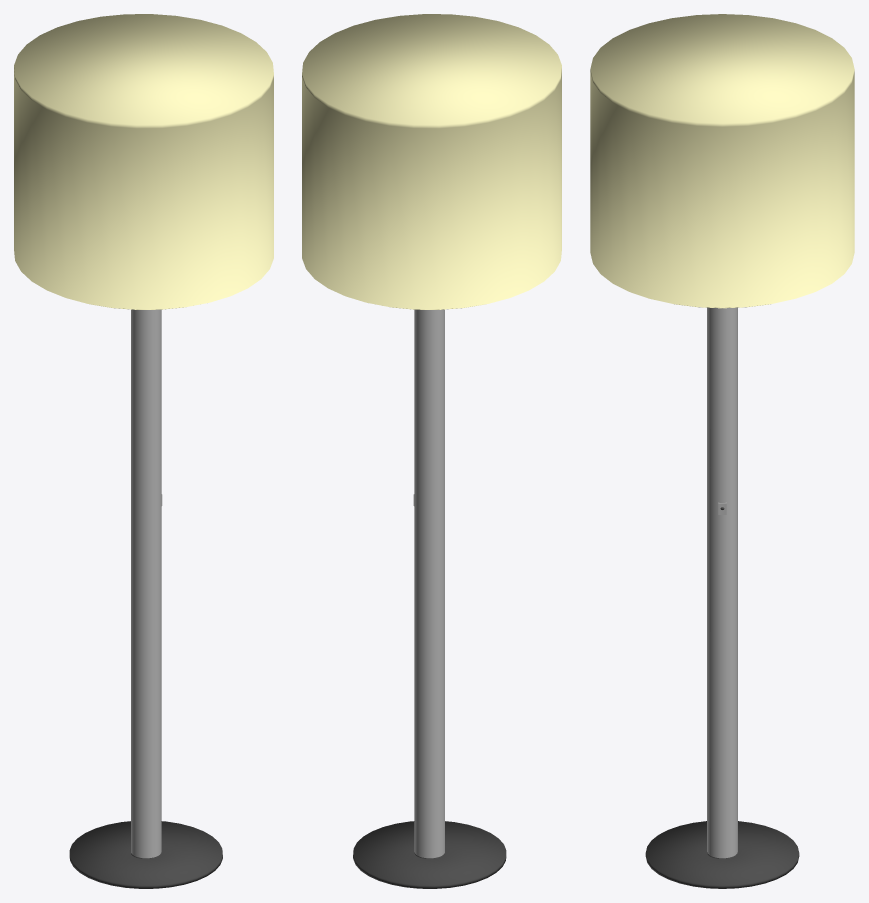
Rendered from Lamp.fbx.
The picture shows the model from 3 angles, left to right: view 1: azimuth 30°, elevation 25°; view 2: azimuth 150°, elevation 25°; view 3: azimuth 270°, elevation 25°; orthographic projection.
Parts seen in each view (by area): view 1: Cylinder.001; view 2: Cylinder.001; view 3: Cylinder.001.
Boxes of the visible parts, bbox=[...] form: Cylinder.001: bbox=[14, 14, 273, 888]; Cylinder.001: bbox=[302, 14, 561, 888]; Cylinder.001: bbox=[590, 14, 854, 888].
Size of the model in its own units: 125 by 418 by 127.
